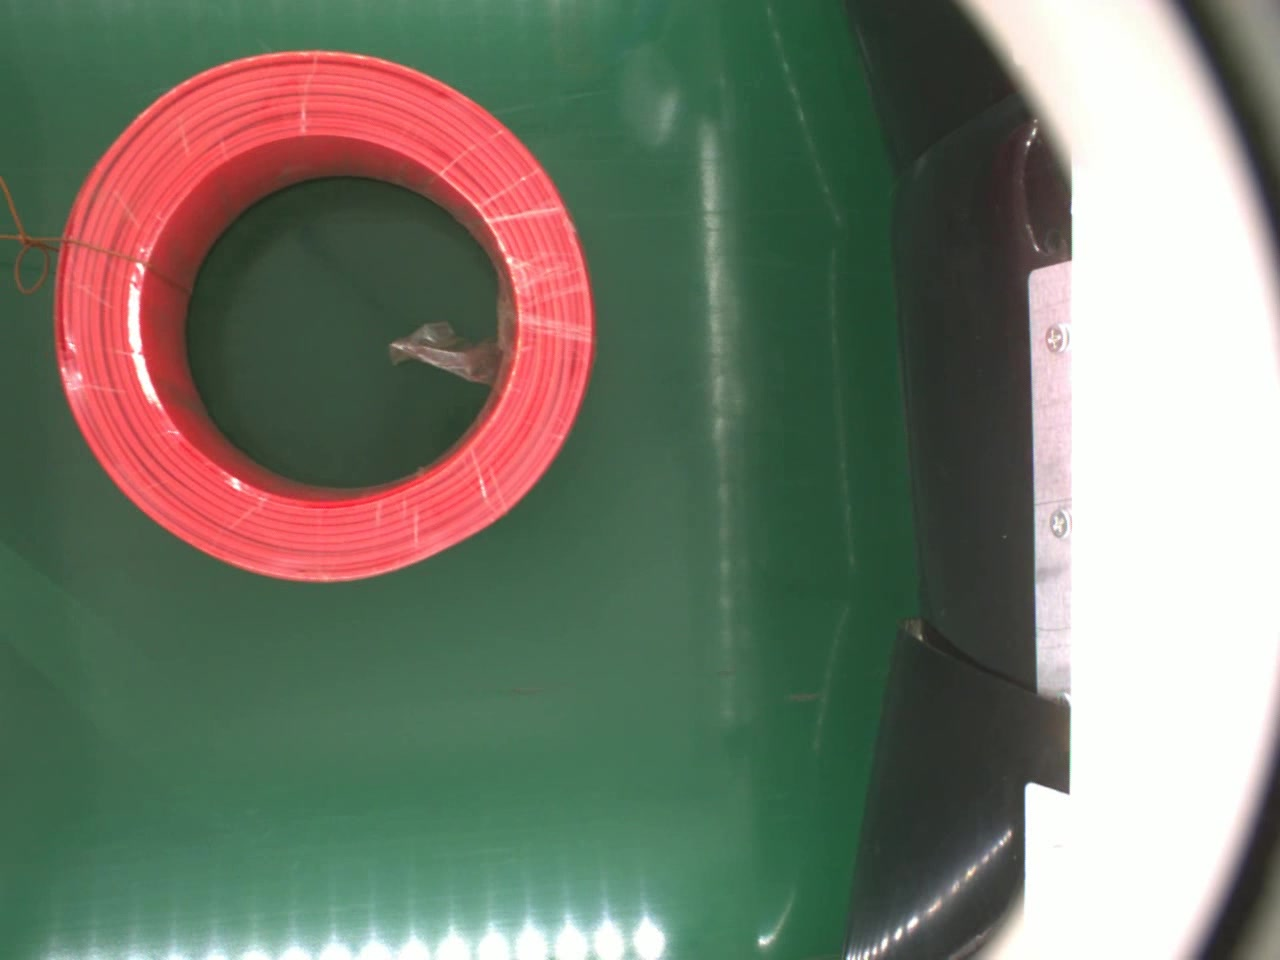red: (52, 47, 595, 585)
